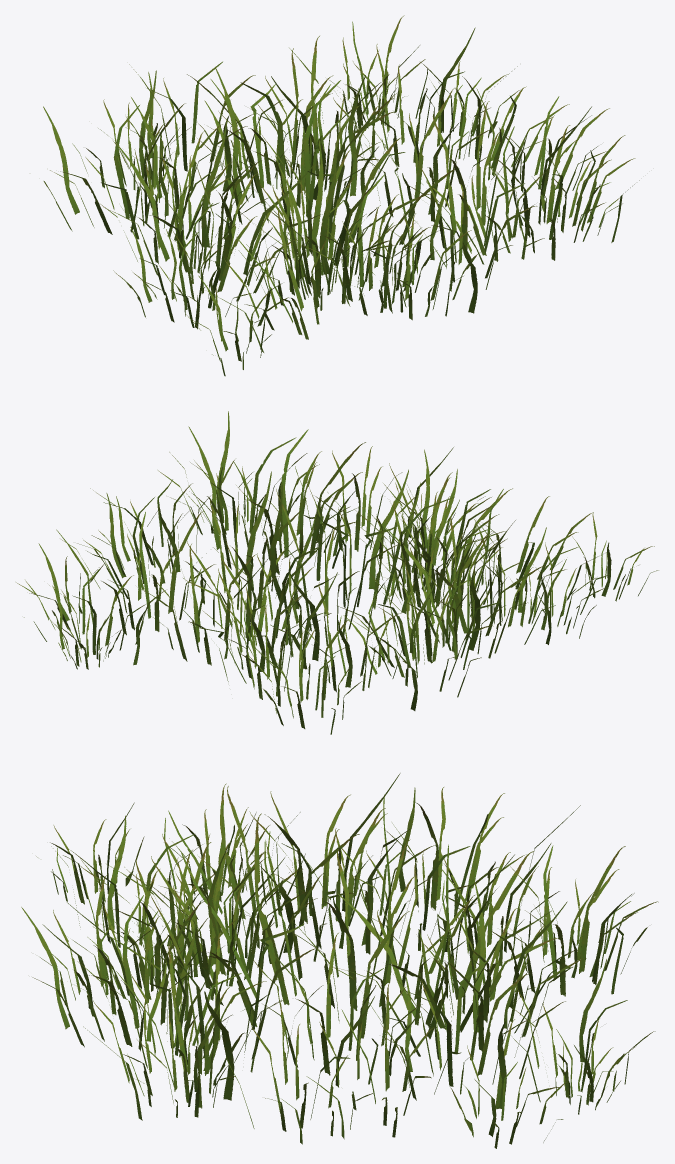
Rendered from Grass_big_017.fbx.
3 views of the same model, one above another, from view 1: azimuth 30°, elevation 25°; view 2: azimuth 150°, elevation 25°; view 3: azimuth 270°, elevation 25° (orthographic). The views are drawn at different scales.
Parts seen in each view (by area): view 1: Grass_big.017; view 2: Grass_big.017; view 3: Grass_big.017.
Boxes of the visible parts, left/top/right/bottom form: Grass_big.017: left=43, top=15, right=639, bottom=376; Grass_big.017: left=16, top=411, right=658, bottom=734; Grass_big.017: left=21, top=773, right=658, bottom=1148.
Bounding box in the file's own units: 86.56 × 26.42 × 79.42.
Materials: 1 (1 with a texture image).
